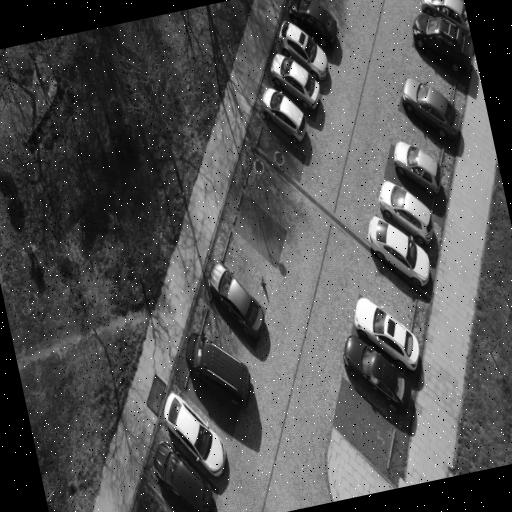car: (163, 393, 225, 477), (343, 336, 411, 410), (354, 298, 418, 370), (185, 333, 249, 403), (207, 262, 264, 338), (368, 217, 429, 286), (153, 442, 212, 511), (401, 78, 460, 138), (412, 14, 473, 71), (378, 182, 432, 244), (279, 22, 327, 80), (270, 54, 319, 109), (393, 142, 440, 196), (261, 89, 305, 143), (288, 0, 336, 46), (421, 0, 470, 36)
